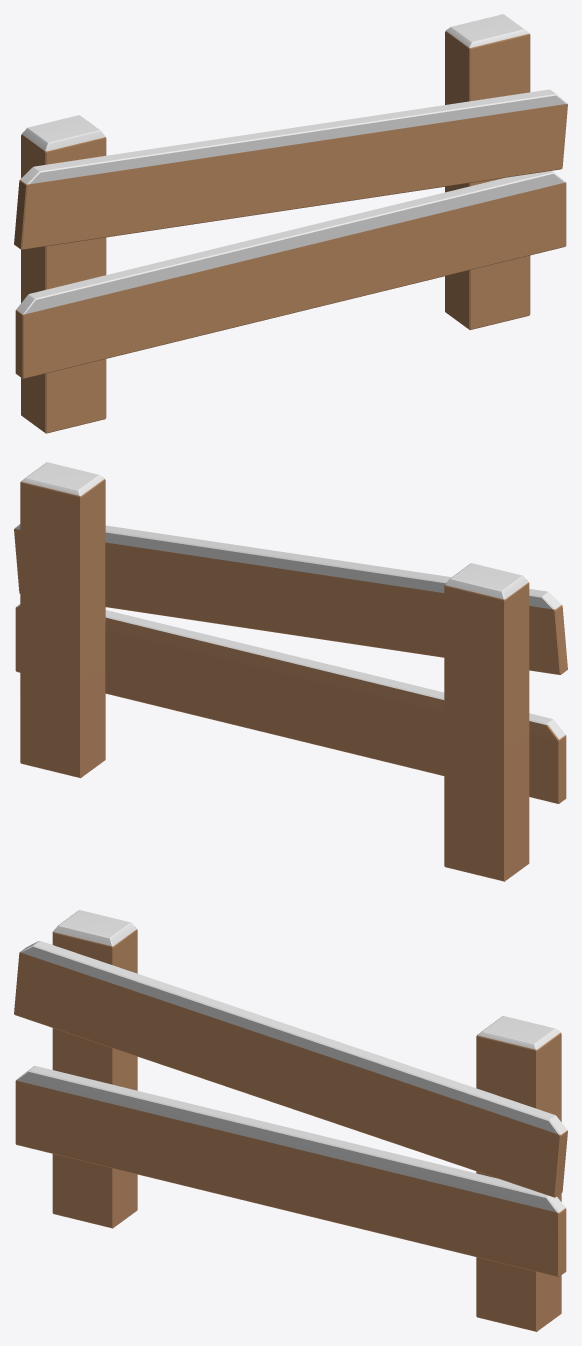
The model's file is fenceV2.fbx.
3 views of the same model, one above another, from view 1: azimuth 30°, elevation 25°; view 2: azimuth 150°, elevation 25°; view 3: azimuth 330°, elevation 25° (orthographic).
Visible parts, largest first — view 1: fences3; view 2: fences3; view 3: fences3.
Boxes of the visible parts, box(x1,y1,x2,y2) form: fences3: box(14, 14, 567, 433); fences3: box(14, 462, 567, 881); fences3: box(14, 910, 567, 1331).
Size of the model in its own units: 6.6 by 3.33 by 0.6704.
